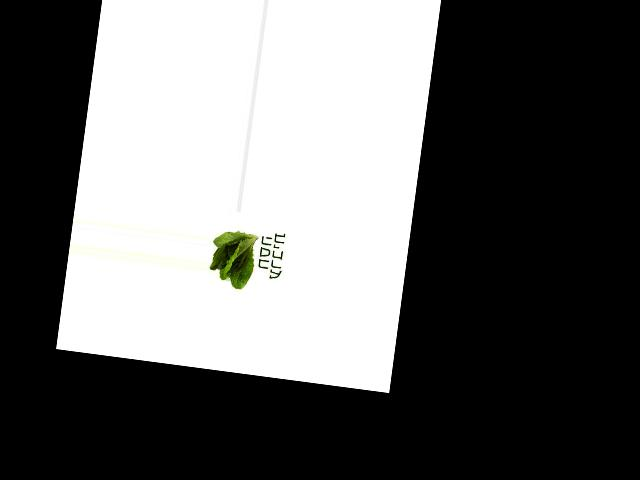lettuce: (207, 224, 264, 292)
